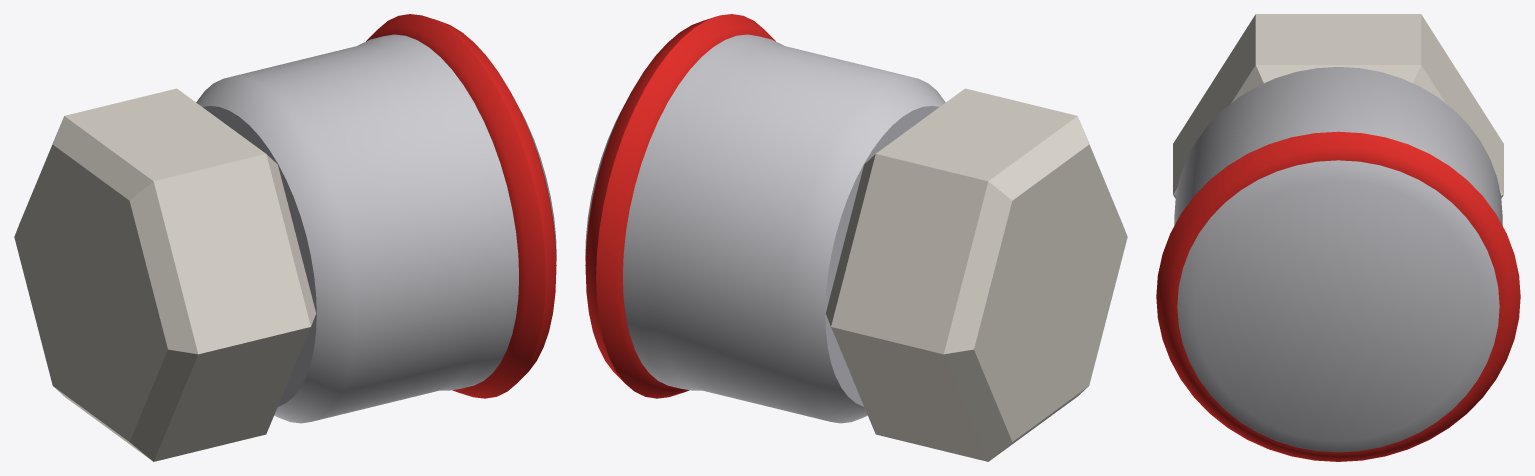
The model's file is fitting_adp_35x1_F_r.glb.
The picture shows the model from 3 angles, left to right: view 1: azimuth 30°, elevation 25°; view 2: azimuth 150°, elevation 25°; view 3: azimuth 270°, elevation 25°; orthographic projection. The views are drawn at different scales.
Visible parts, largest first — view 1: шестигранник переходника, раструб, кольцо пресс; view 2: шестигранник переходника, раструб, кольцо пресс; view 3: раструб, кольцо пресс, шестигранник переходника.
Boxes of the visible parts, bbox=[...] form: шестигранник переходника: bbox=[14, 88, 316, 461]; раструб: bbox=[196, 34, 556, 423]; кольцо пресс: bbox=[366, 14, 556, 398]; шестигранник переходника: bbox=[825, 88, 1127, 461]; раструб: bbox=[585, 34, 945, 423]; кольцо пресс: bbox=[585, 14, 775, 398]; раструб: bbox=[1174, 67, 1502, 452]; кольцо пресс: bbox=[1156, 131, 1520, 461]; шестигранник переходника: bbox=[1173, 14, 1503, 198].
Bounding box in the file's own units: 0.055 × 0.0483 × 0.0483.
